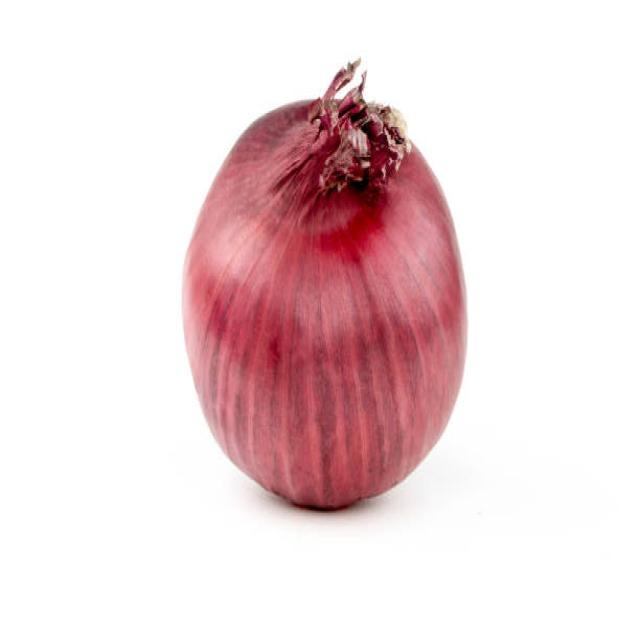onion: (180, 78, 476, 520)
